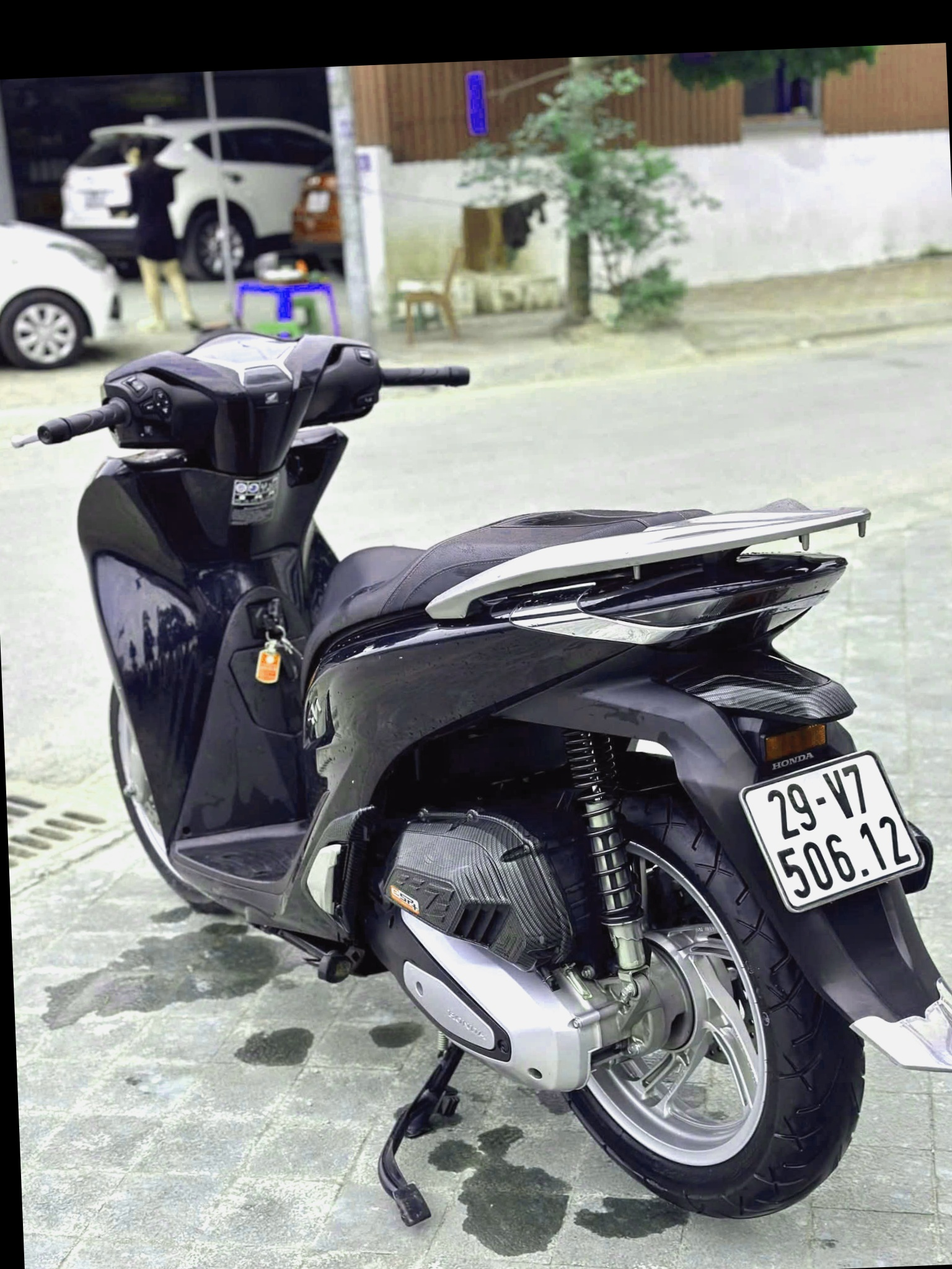Bien-so: (705, 717, 911, 900)
